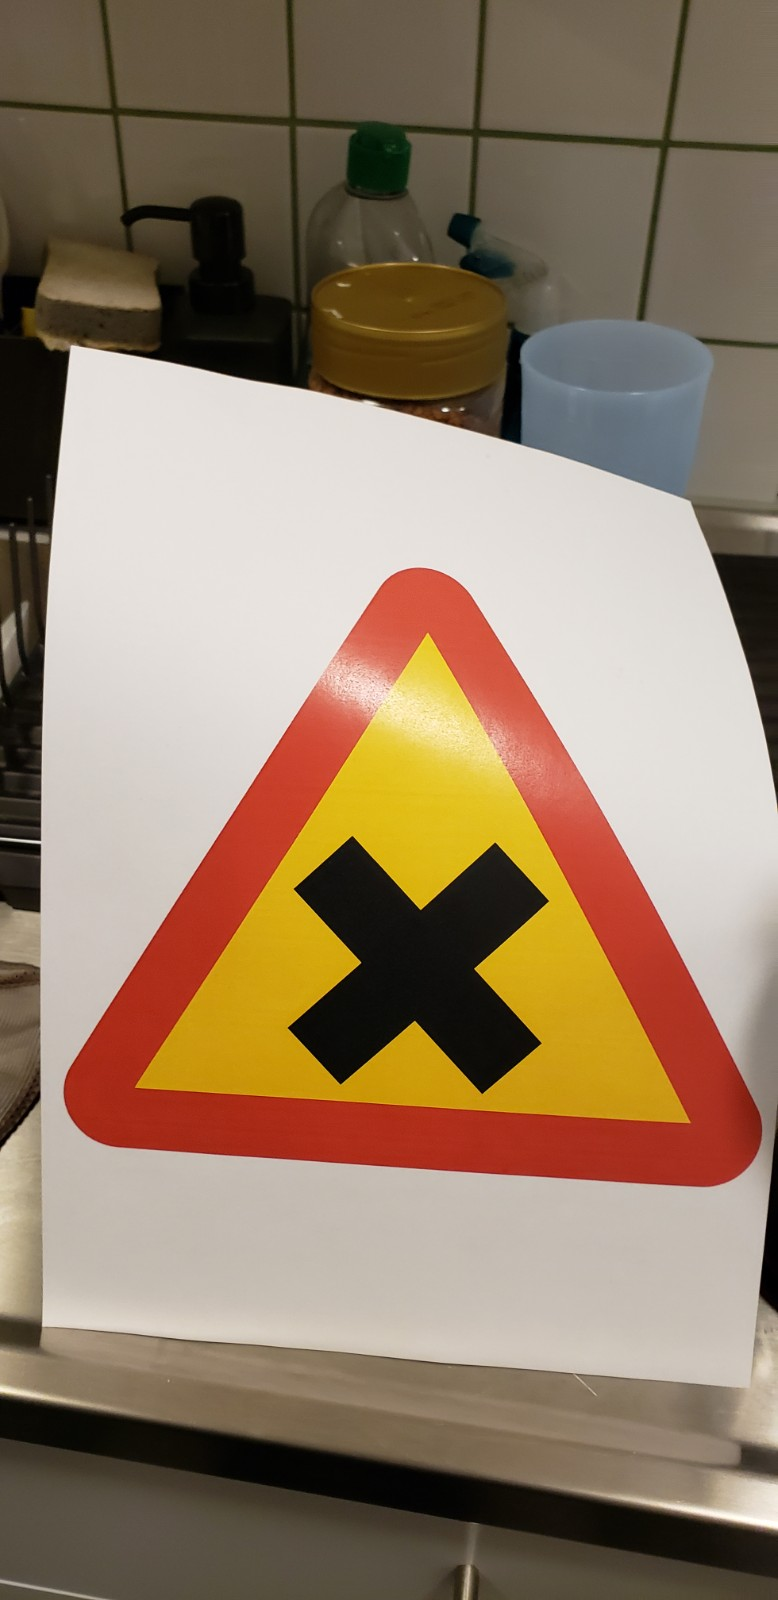junction: (68, 477, 765, 1253)
